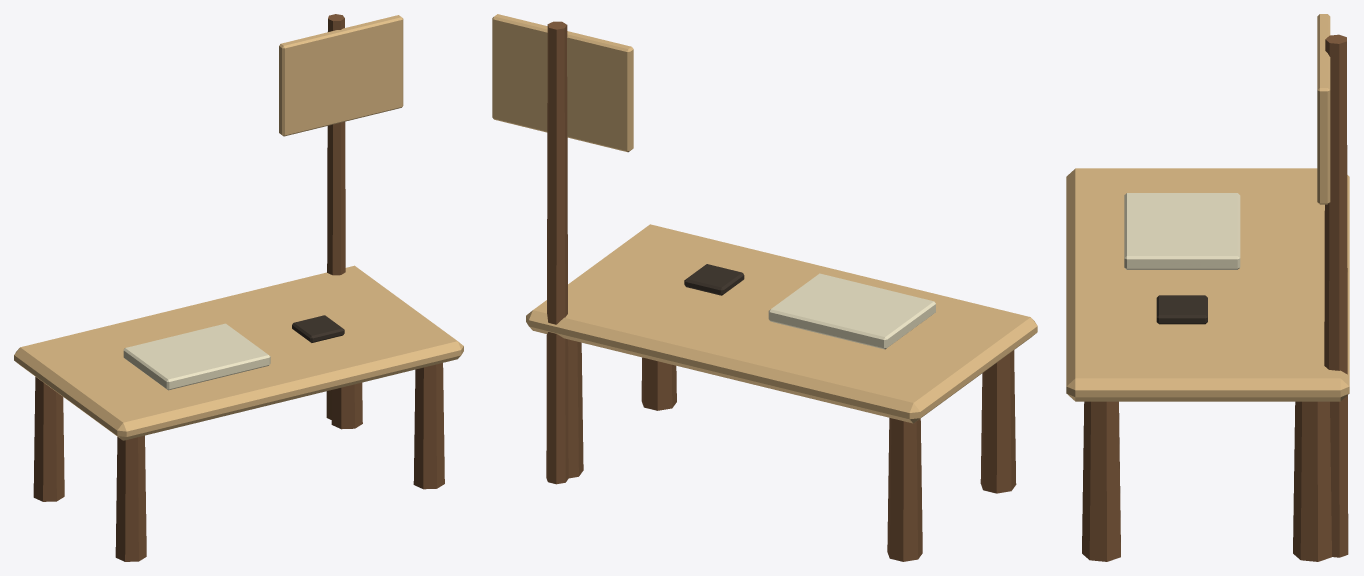
File: CC_ConscriptionPost.fbx
The picture shows the model from 3 angles, left to right: view 1: azimuth 30°, elevation 25°; view 2: azimuth 150°, elevation 25°; view 3: azimuth 270°, elevation 25°; orthographic projection. The views are drawn at different scales.
Parts seen in each view (by area): view 1: Top.007, Notice board, Roster book, Leg.080, Leg.082, Leg.081, Notice pole, Leg.083, Ink pad; view 2: Top.007, Notice board, Notice pole, Roster book, Leg.081, Leg.080, Leg.083, Leg.082, Ink pad; view 3: Top.007, Notice pole, Roster book, Leg.082, Leg.083, Notice board, Ink pad.
Boxes of the visible parts, x1=… form: Top.007: x1=14, y1=265, x2=463, y2=440; Notice board: x1=279, y1=15, x2=403, y2=136; Roster book: x1=123, y1=323, x2=270, y2=390; Leg.080: x1=115, y1=435, x2=146, y2=561; Leg.082: x1=413, y1=363, x2=444, y2=489; Leg.081: x1=33, y1=377, x2=64, y2=501; Notice pole: x1=326, y1=14, x2=345, y2=419; Leg.083: x1=331, y1=382, x2=362, y2=429; Ink pad: x1=292, y1=315, x2=344, y2=342; Top.007: x1=526, y1=224, x2=1037, y2=423; Notice board: x1=492, y1=14, x2=633, y2=152; Notice pole: x1=546, y1=21, x2=568, y2=484; Roster book: x1=768, y1=273, x2=935, y2=349; Leg.081: x1=887, y1=418, x2=922, y2=561; Leg.080: x1=980, y1=350, x2=1016, y2=493; Leg.083: x1=568, y1=339, x2=583, y2=478; Leg.082: x1=641, y1=357, x2=676, y2=410; Ink pad: x1=684, y1=264, x2=744, y2=295; Top.007: x1=1066, y1=168, x2=1349, y2=401; Notice pole: x1=1324, y1=34, x2=1348, y2=557; Roster book: x1=1124, y1=193, x2=1240, y2=269; Leg.082: x1=1082, y1=401, x2=1120, y2=561; Leg.083: x1=1293, y1=401, x2=1331, y2=561; Notice board: x1=1317, y1=14, x2=1330, y2=204; Ink pad: x1=1156, y1=295, x2=1207, y2=324.
Size of the model in its own units: 2.2 by 2.2 by 1.1.
